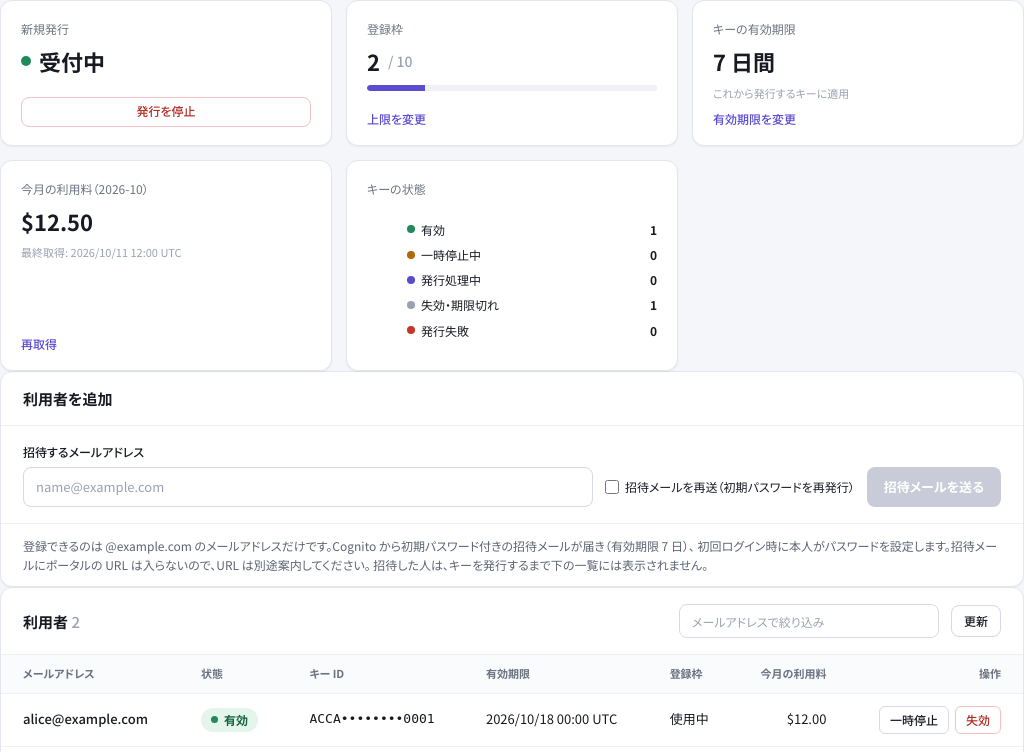
Test case: AdminView › shows the server message when the address is already registered
The image size is (1024, 752).
Type "alice@example.com" into the field labelled "招待するメールアドレス" at (308, 487), box [23,467,593,507]
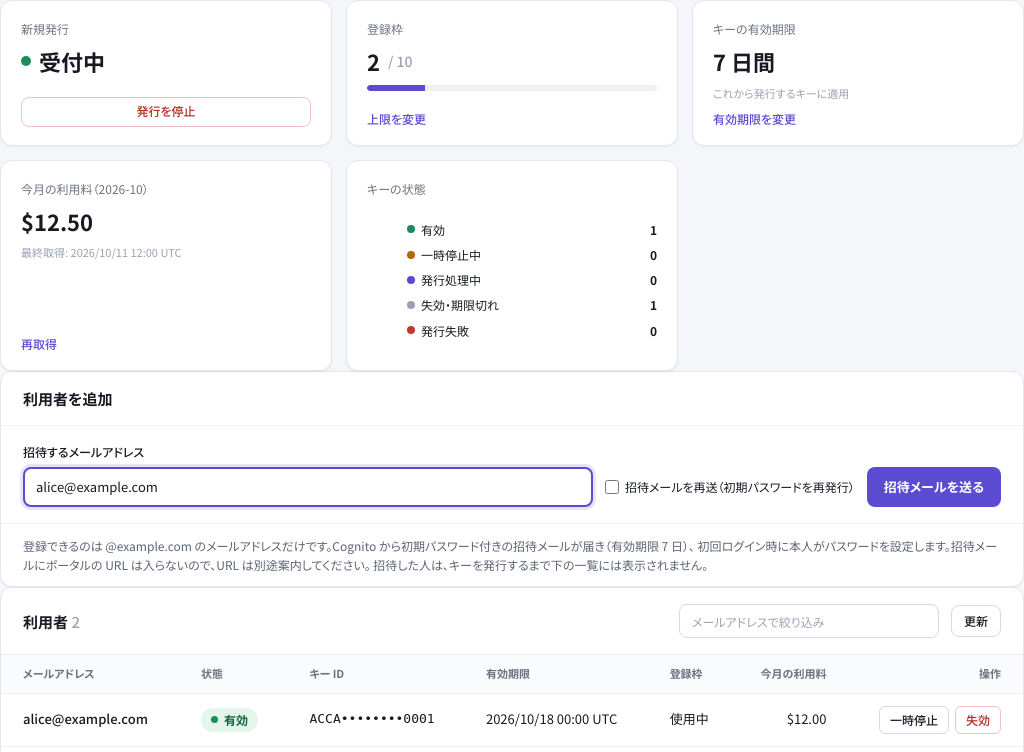
Click the button "招待メールを送る" at (934, 487), box [867,467,1001,507]
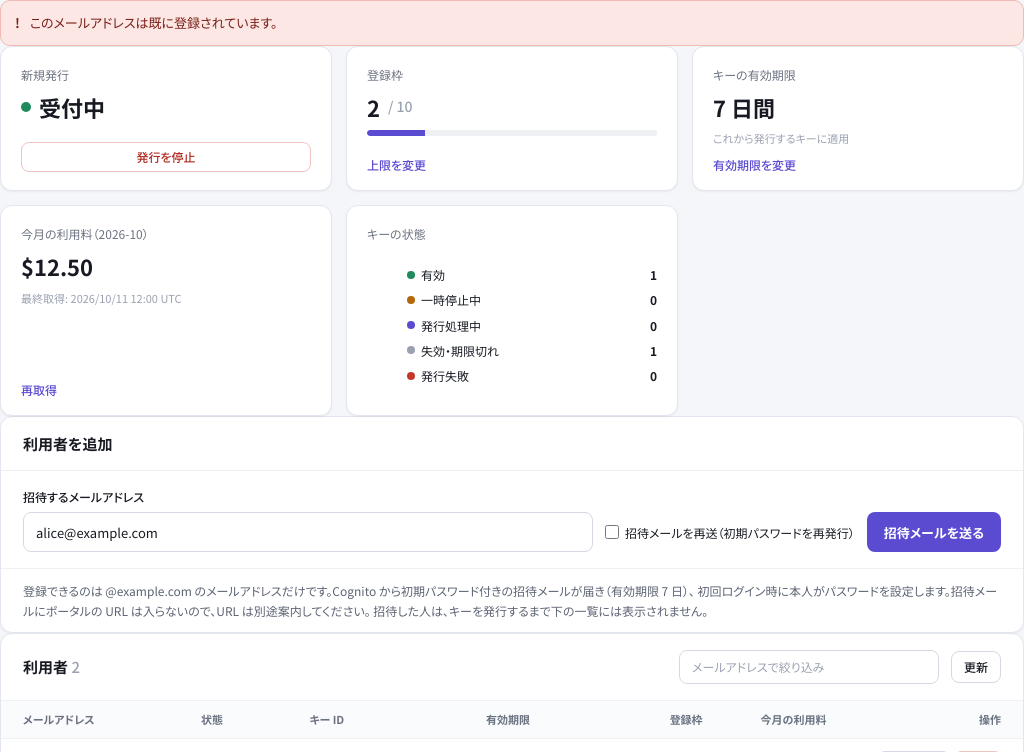
expect the text "このメールアドレスは既に登録されています。" is shown: met, box [30,13,277,32]
